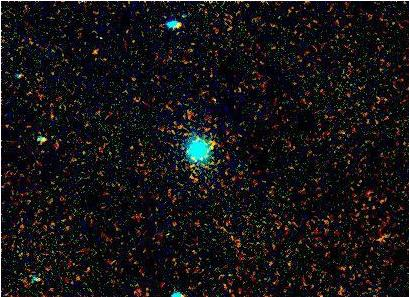star: (198, 128, 228, 158)
